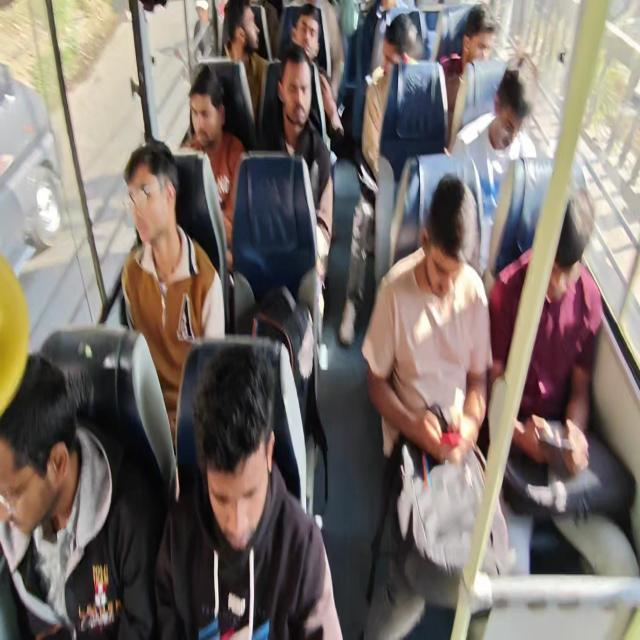person: (2, 1, 637, 638), (361, 173, 509, 638), (486, 186, 638, 578), (153, 341, 344, 638), (0, 351, 164, 638), (118, 139, 226, 457), (338, 10, 421, 346), (259, 42, 334, 318), (450, 60, 538, 272), (182, 65, 246, 266), (279, 4, 344, 154), (440, 3, 498, 151), (220, 0, 275, 145)
